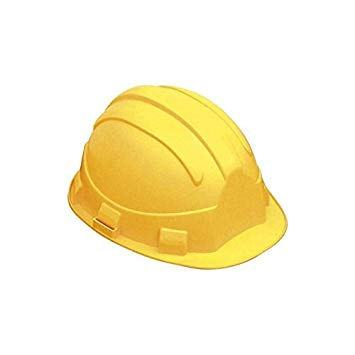elmetto: (50, 71, 302, 274)
